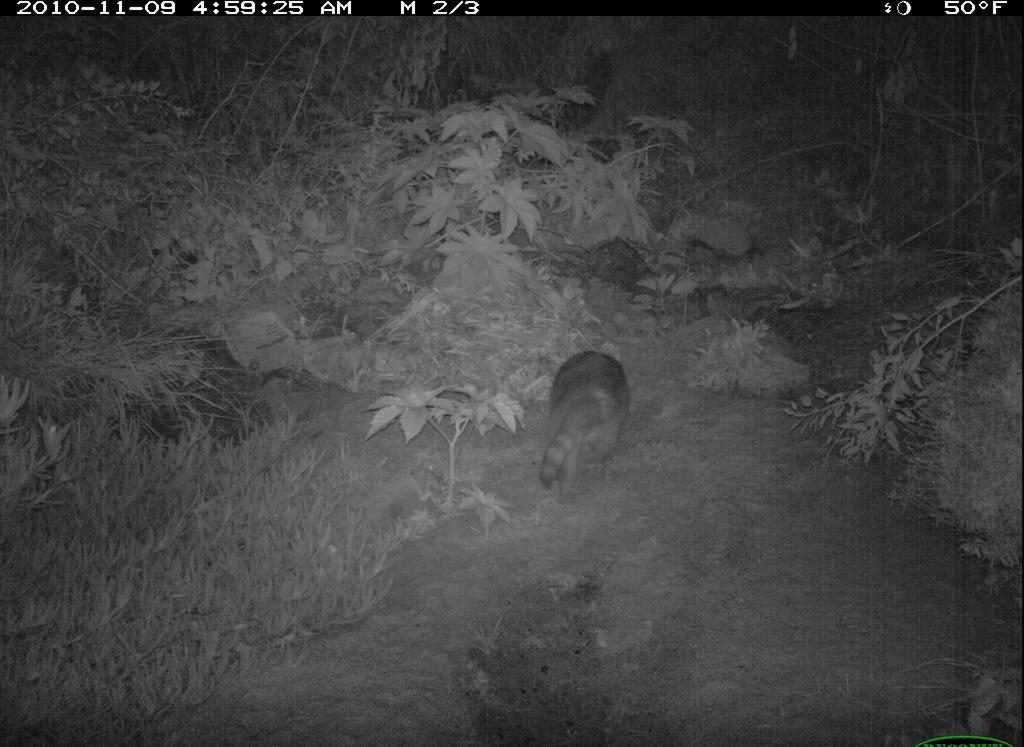raccoon: (509, 333, 644, 516)
